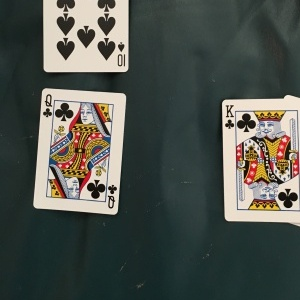card: (34, 85, 127, 215)
